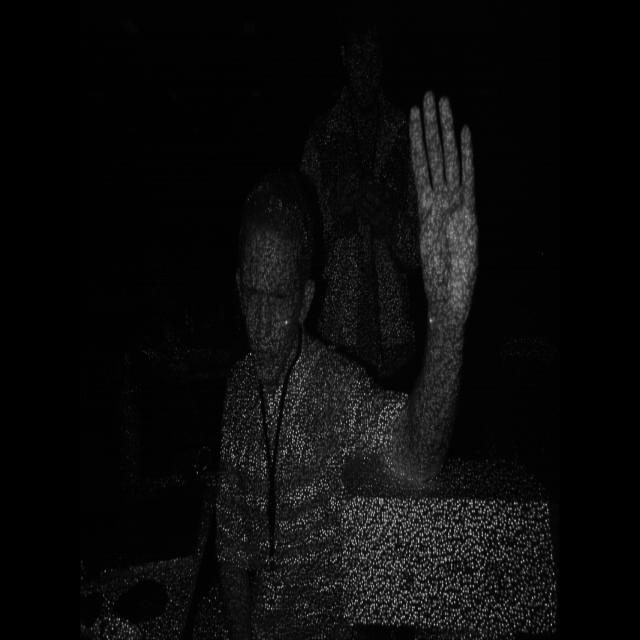B: (397, 81, 491, 338)
